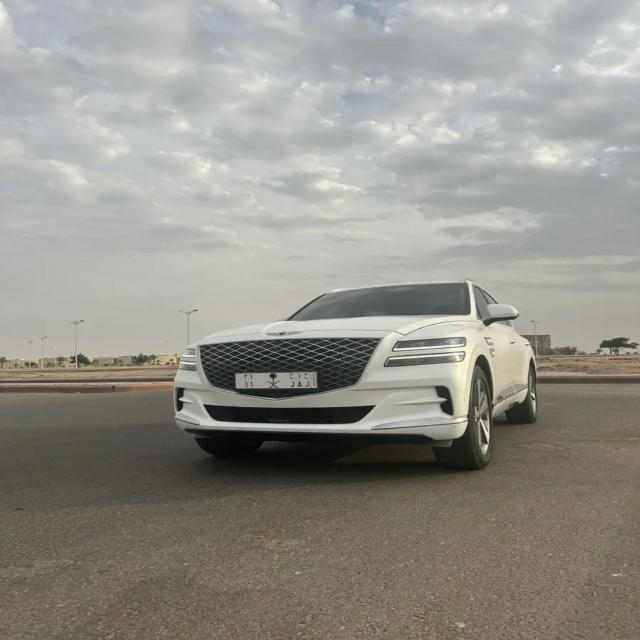license_plate: (235, 372, 318, 389)
